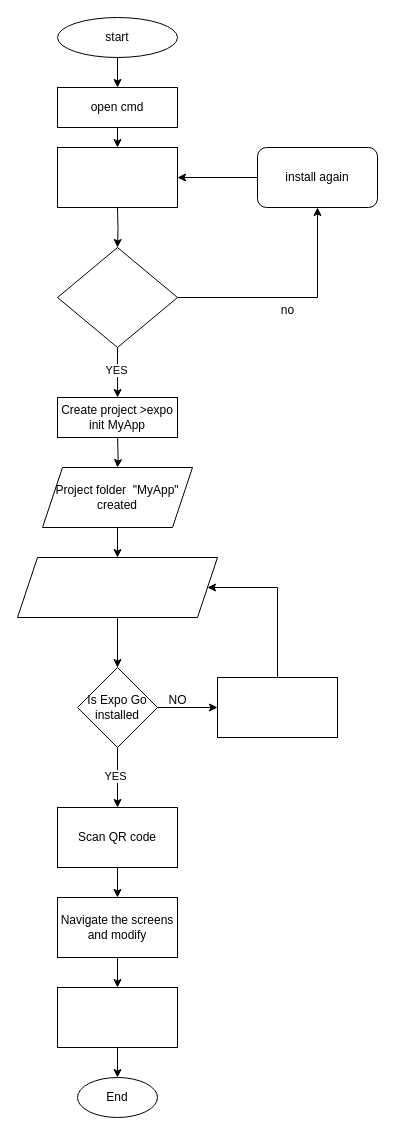
Some shapes in this 395 by 1135 pixel diagram are drawn without their labels. The shapes that lost their labels are listed below. From the top down, each one's centre as x and y in pixels, then its label:
At point 117,177: "Install expo CLI".
At point 117,297: "is Expo CLI installed?".
At point 117,587: "Start project cmd: npx start expo".
At point 277,707: "install expo go".
At point 117,1017: "Test and deploy".
